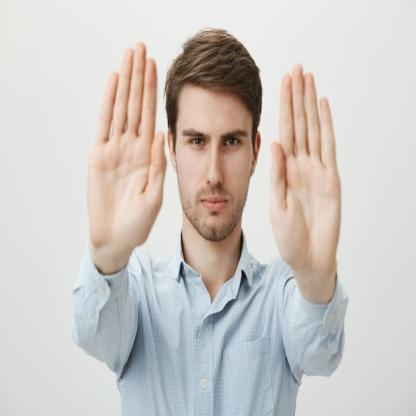stop: (87, 36, 169, 256), (266, 58, 346, 280)
